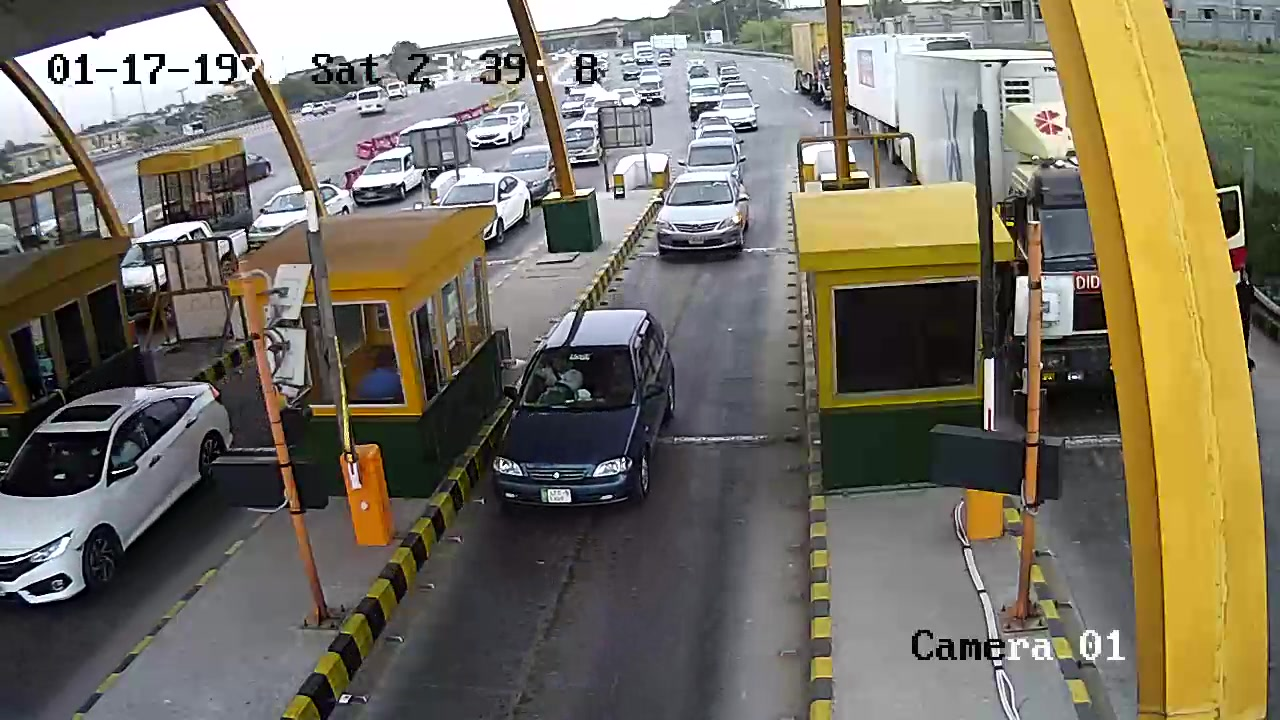F1: (493, 304, 696, 518)
